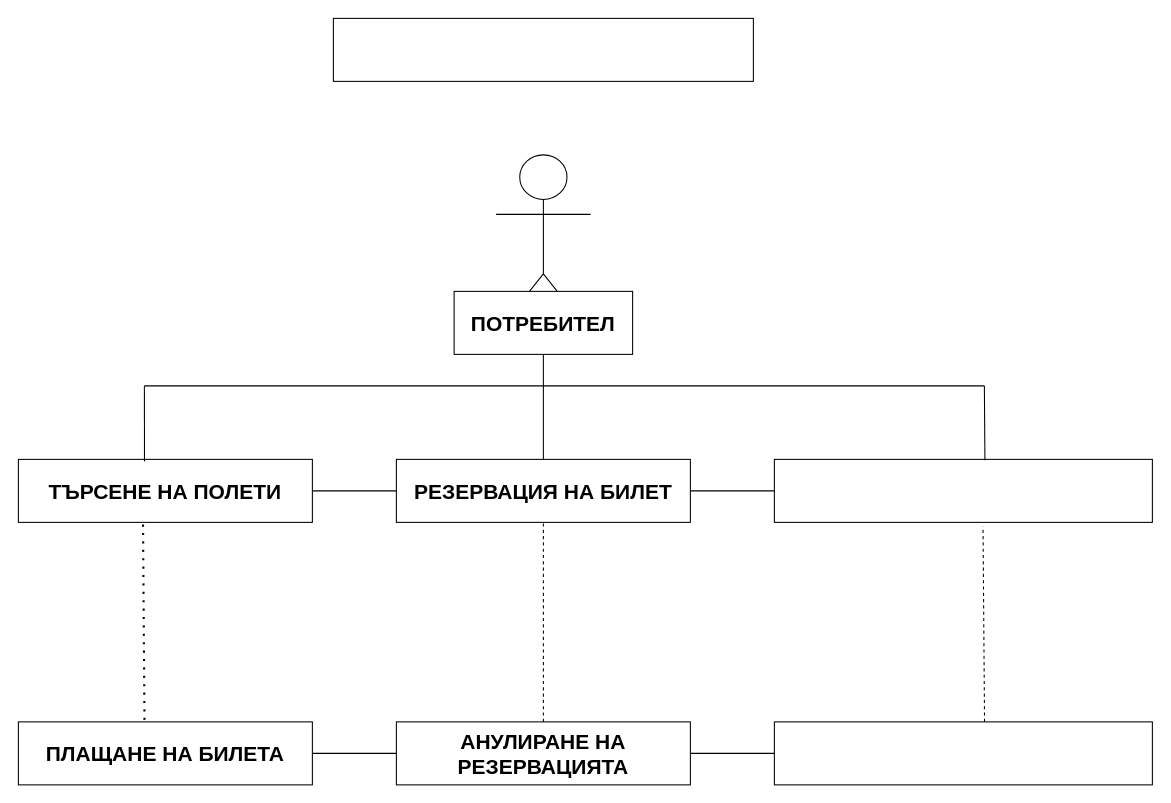
The diagram is 1171 pixels wide and 803 high, and some of its shapes have lost their labels. Here are the shapes that lost their labels. From the top down, the centre of each, then its label:
At pixel 542 49: "ОНЛАЙН СИСТЕМА ЗА КУПУВАНЕ НА БИЛЕТИ".
At pixel 962 490: "ПРЕГЛЕД НА ИНФОРМАЦИЯ ЗА ПОЛЕТ".
At pixel 962 753: "ПОЛУЧАВАНЕ НА ЕЛЕКТРОНЕН ПЕЧАТ".
